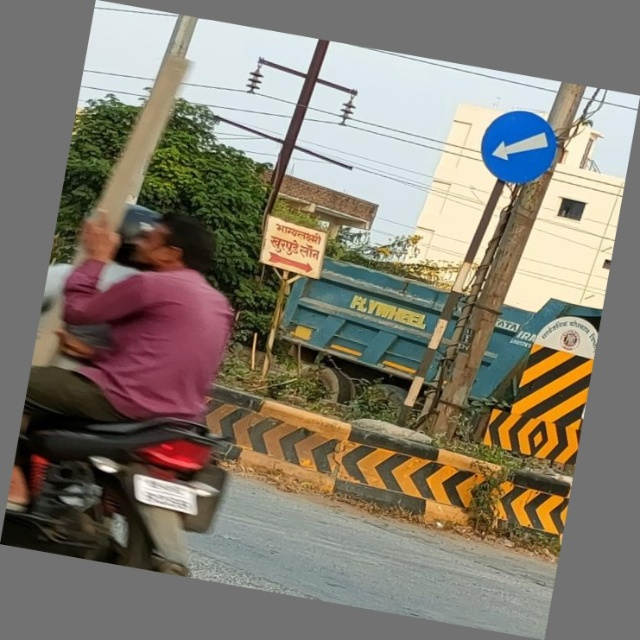R.301e: (470, 101, 568, 200)
